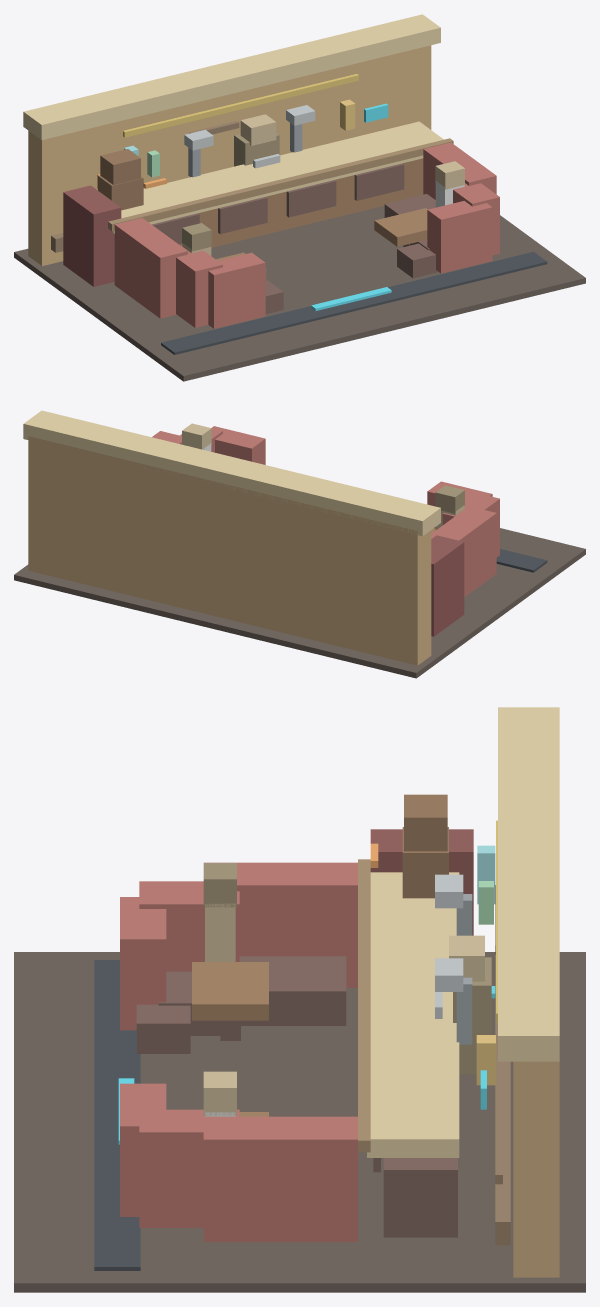
Rendered from blockbench_cantina_bar_booth_bay_v1.glb.
3 views of the same model, one above another, from view 1: azimuth 30°, elevation 25°; view 2: azimuth 150°, elevation 25°; view 3: azimuth 270°, elevation 25° (orthographic). The views are drawn at different scales.
Visible parts, largest first — view 1: floor_plate, back_wall_core, back_wall_top_cap, bar_top_slab, floor_front_shadow, left_booth_back_rear, owner_corner_booth_back, bar_counter_front, right_booth_back_front, left_booth_back_front, bar_top_front_lip, left_booth_back_mid (+20 smaller); view 2: back_wall_core, back_wall_top_cap, floor_plate, left_booth_back_rear, owner_corner_booth_back, right_booth_back_front, left_booth_back_mid, floor_front_shadow, left_patron_head, right_patron_head, left_booth_back_front; view 3: floor_plate, bar_top_slab, back_wall_top_cap, right_booth_back_rear, left_booth_back_rear, back_wall_core, floor_front_shadow, right_booth_back_mid, bar_counter_right_block, left_booth_seat_rear, left_booth_back_front, left_table_top (+19 smaller).
Boxes of the visible parts, box(x1,y1,x2,y2) form: floor_plate: box(14, 205, 585, 381); back_wall_core: box(28, 45, 431, 265); back_wall_top_cap: box(23, 14, 440, 139); bar_top_slab: box(112, 121, 443, 233); floor_front_shadow: box(161, 251, 547, 354); left_booth_back_rear: box(114, 218, 187, 318); owner_corner_booth_back: box(63, 185, 121, 286); bar_counter_front: box(179, 158, 423, 247); right_booth_back_front: box(427, 201, 492, 273); left_booth_back_front: box(208, 252, 265, 328); bar_top_front_lip: box(108, 138, 453, 231); left_booth_back_mid: box(176, 245, 222, 327); back_wall_core: box(28, 436, 431, 665); back_wall_top_cap: box(23, 410, 440, 536); floor_plate: box(14, 528, 585, 678); left_booth_back_rear: box(431, 506, 496, 596); owner_corner_booth_back: box(431, 535, 464, 636); right_booth_back_front: box(211, 426, 265, 464); left_booth_back_mid: box(442, 492, 499, 557); floor_front_shadow: box(496, 549, 547, 572); left_patron_head: box(435, 485, 464, 513); right_patron_head: box(182, 423, 211, 449); left_booth_back_front: box(427, 481, 492, 528); floor_plate: box(14, 952, 585, 1292); bar_top_slab: box(367, 872, 459, 1157); back_wall_top_cap: box(498, 707, 559, 1061); right_booth_back_rear: box(203, 1116, 357, 1241); left_booth_back_rear: box(204, 862, 357, 987); back_wall_core: box(513, 1061, 559, 1277); floor_front_shadow: box(94, 960, 140, 1270); right_booth_back_mid: box(139, 1109, 239, 1227); bar_counter_right_block: box(383, 1158, 457, 1237); left_booth_seat_rear: box(239, 956, 346, 1025); left_booth_back_front: box(120, 897, 166, 1030); left_table_top: box(192, 962, 268, 1020).
Size of the model in its own units: 6.1 by 2.19 by 4.45.
